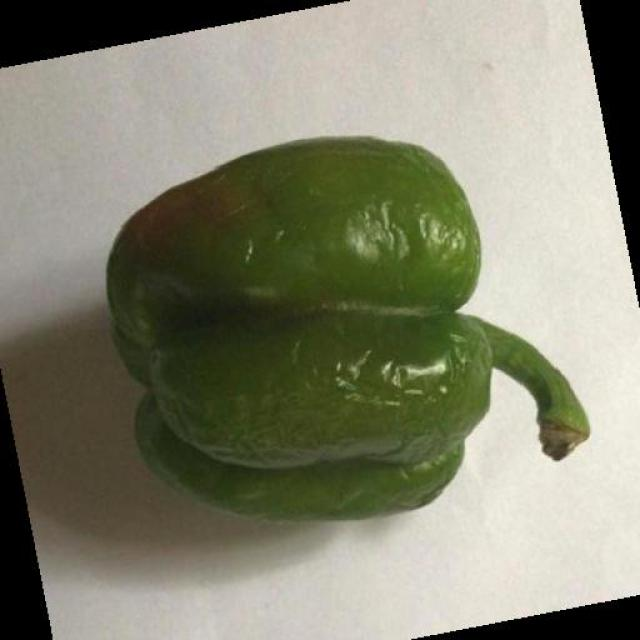Stale_Capsicum: (100, 157, 574, 524)
